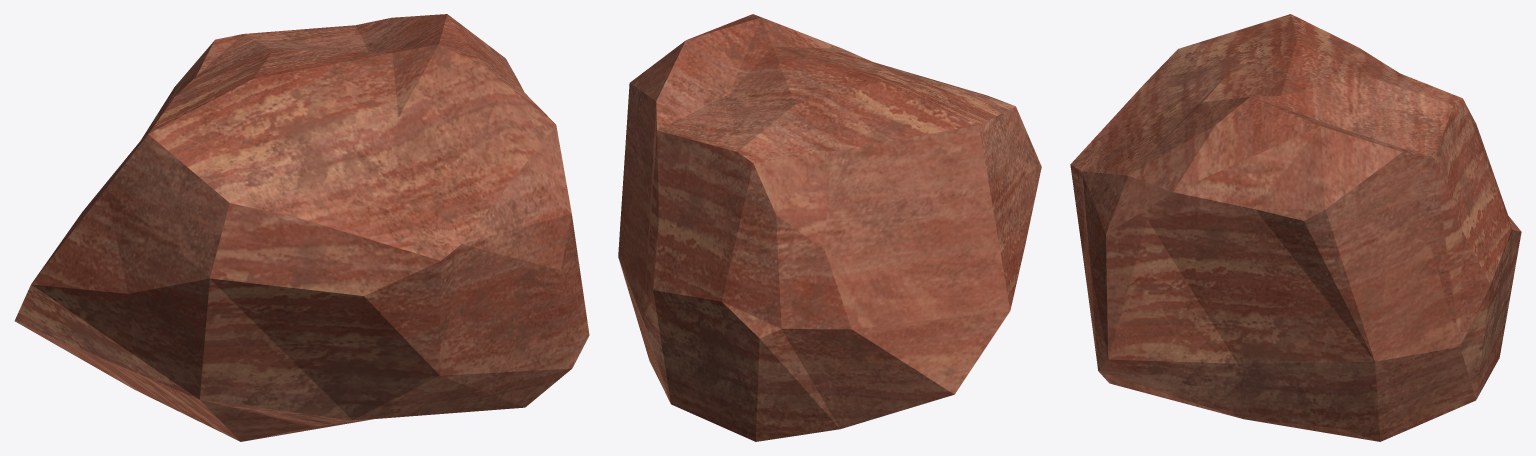
Rendered from RockTEXT.glb.
The picture shows the model from 3 angles, left to right: view 1: azimuth 30°, elevation 25°; view 2: azimuth 150°, elevation 25°; view 3: azimuth 270°, elevation 25°; orthographic projection. The views are drawn at different scales.
Parts seen in each view (by area): view 1: Sphere; view 2: Sphere; view 3: Sphere.
Boxes of the visible parts, x1,y1,x2,y2 form: Sphere: [14, 14, 589, 441]; Sphere: [618, 14, 1041, 441]; Sphere: [1070, 14, 1521, 441].
Size of the model in its own units: 2.3 by 1.7 by 2.17.
Materials: 1 (1 with a texture image).
